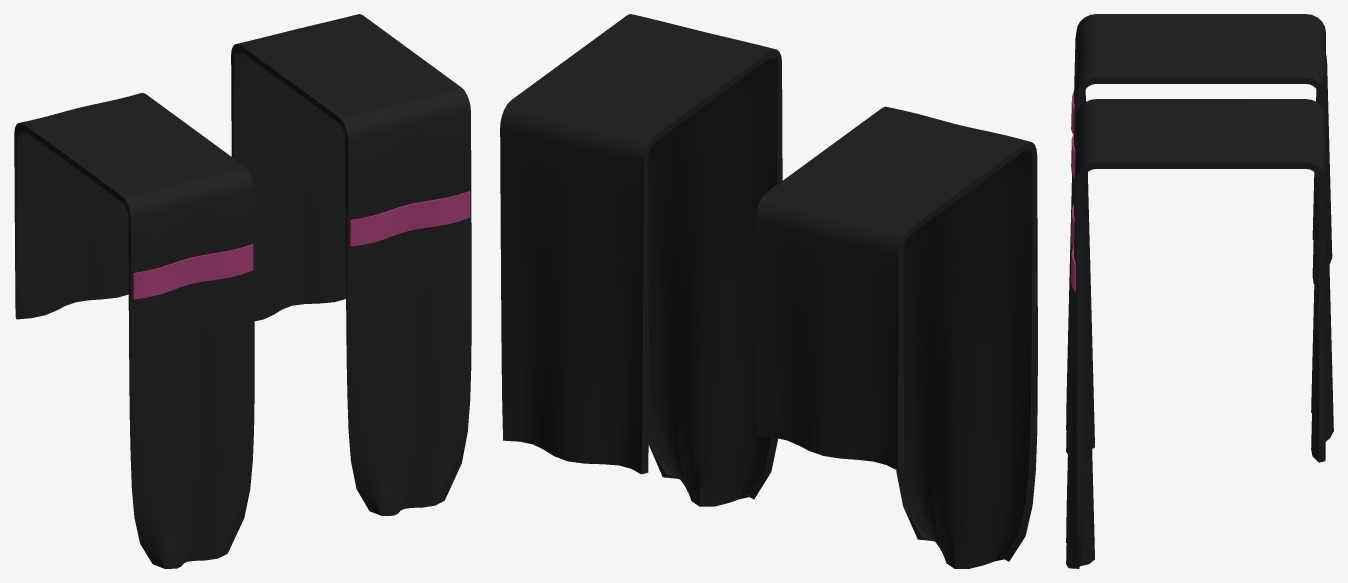
File: socks-draped-vibe-281c4aeb5ea1.glb
3 renders of one model, left to right at view 1: azimuth 30°, elevation 25°; view 2: azimuth 150°, elevation 25°; view 3: azimuth 270°, elevation 25°, orthographic. The views are drawn at different scales.
Parts seen in each view (by area): view 1: rubber, accent-magenta; view 2: rubber; view 3: rubber, accent-magenta.
Part boxes in pixels (x1,y1,x2,y2): rubber: (14,14,471,568); accent-magenta: (133,191,470,299); rubber: (500,14,1037,568); rubber: (1066,14,1333,568); accent-magenta: (1071,91,1075,291).
Bounding box in the file's own units: 0.208 × 0.235 × 0.133.
